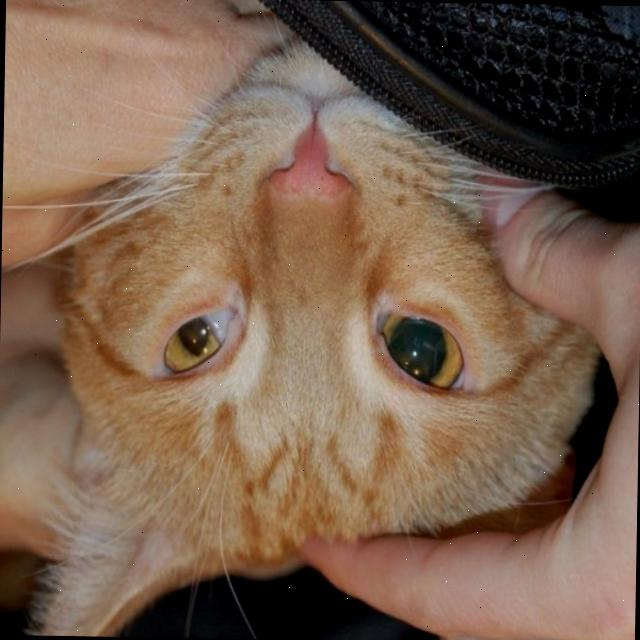cat-eye: (160, 288, 267, 384)
cat-eye-normal: (356, 295, 486, 401)
